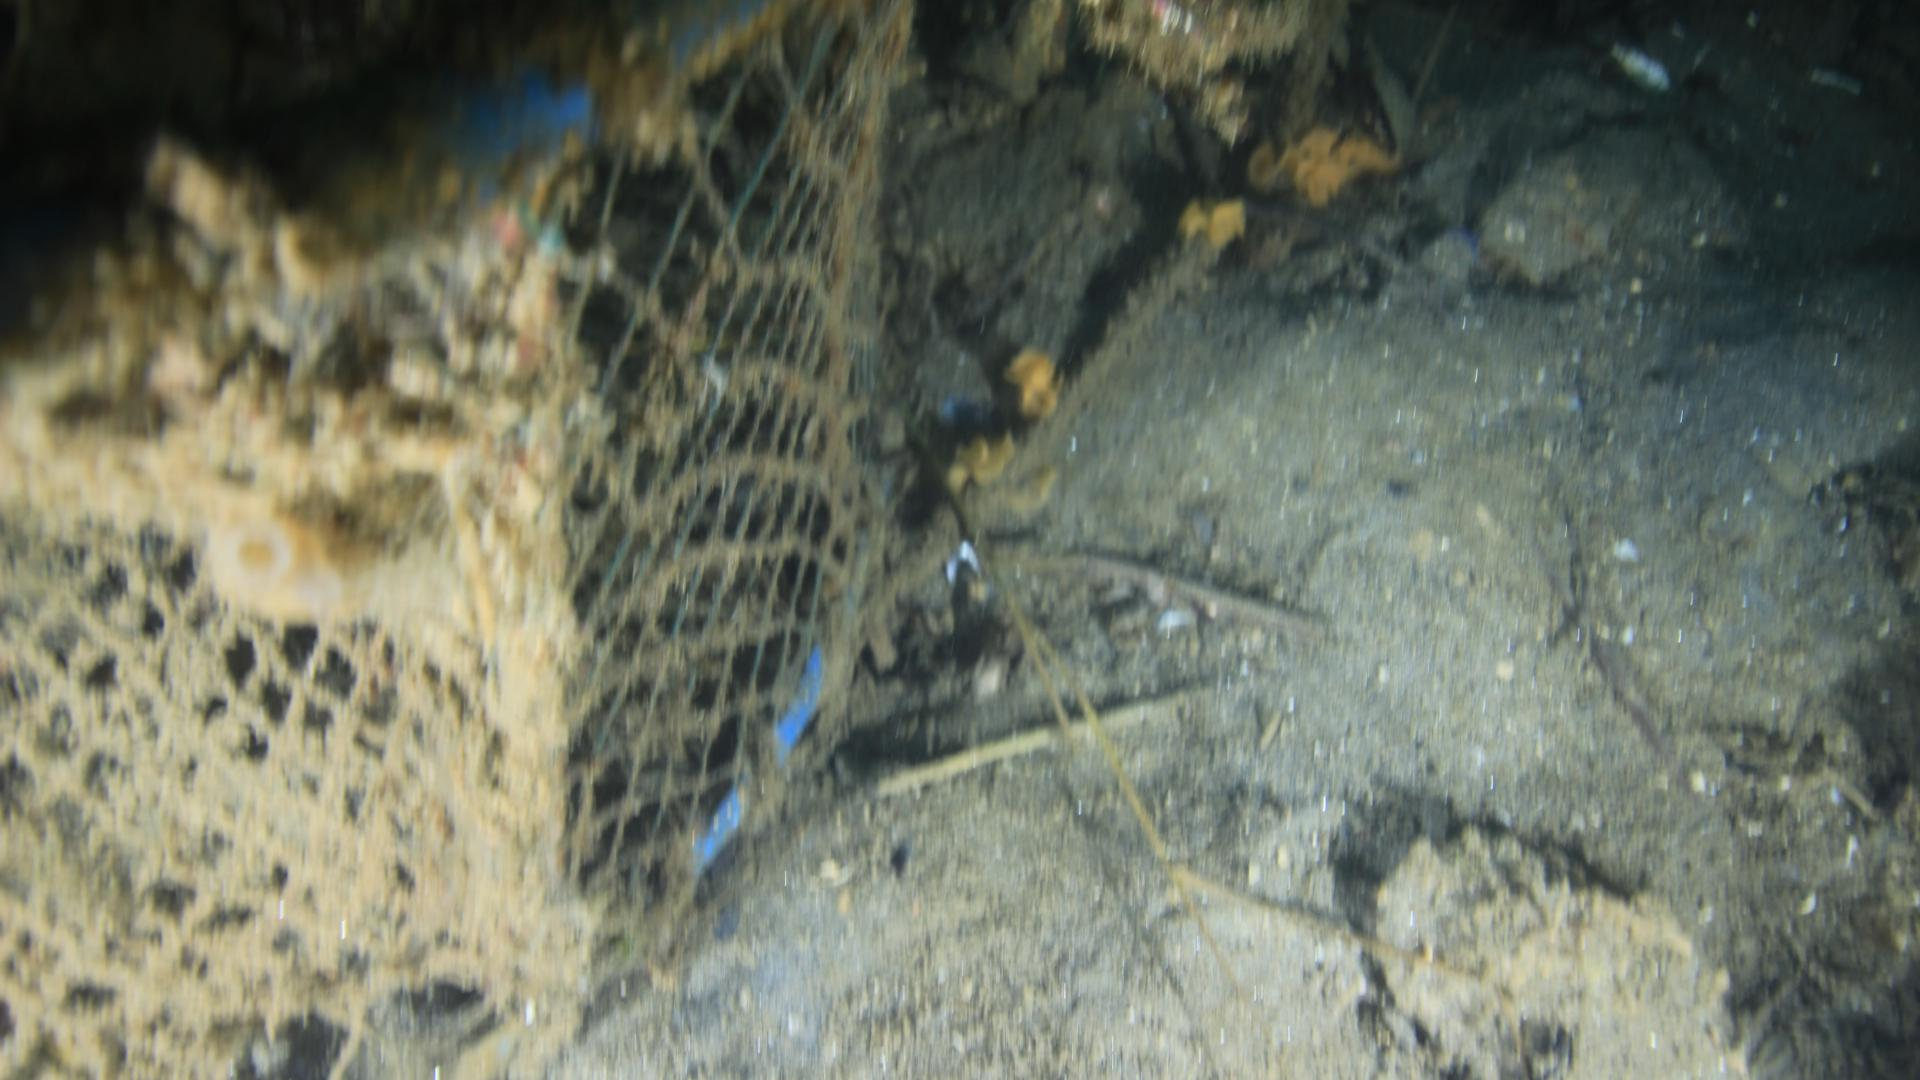circular fish trap: (0, 0, 928, 1080)
